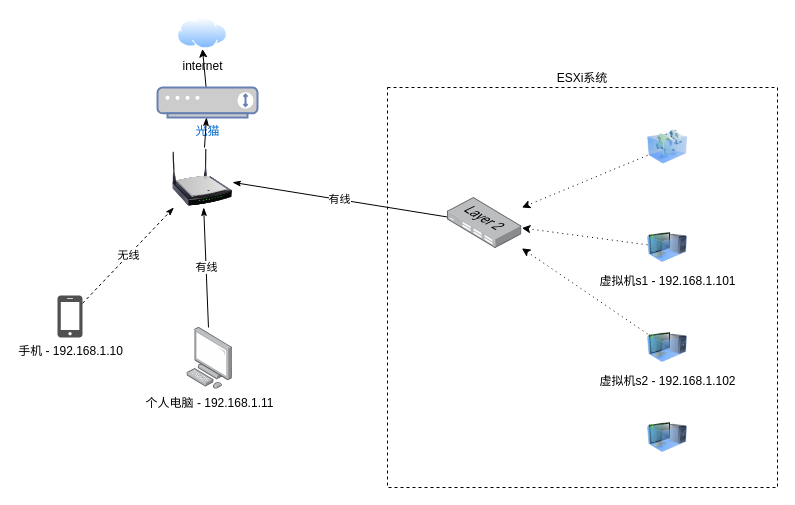
The diagram is 795 pixels wide and 505 high, and some of its shapes have lost their labels. The shapes that lost their labels are listed below. From the top down, each one's centre as x and y in pixels, then its label:
At point (667, 146): "ESXi系统 - 192.168.1.100".
At point (202, 177): "路由器 - 192.168.1.1".
At point (484, 222): "ESXi 虚拟交换机".
At point (667, 437): "虚拟机s3 - ？".
